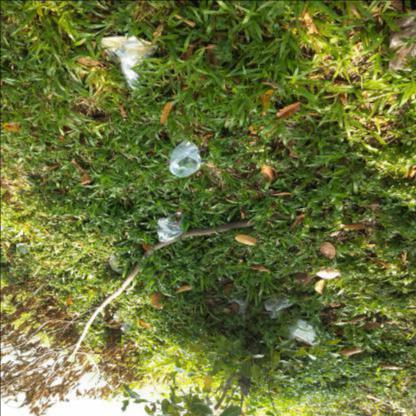Lid: (16, 242, 29, 253)
Other plastic: (9, 266, 14, 272)
Plastic bag - wrapper: (100, 32, 157, 90), (387, 17, 415, 73), (169, 141, 201, 176), (286, 318, 319, 346), (157, 212, 184, 242), (264, 297, 293, 319), (226, 297, 247, 318), (114, 313, 135, 333), (109, 253, 124, 273), (315, 270, 341, 280)
